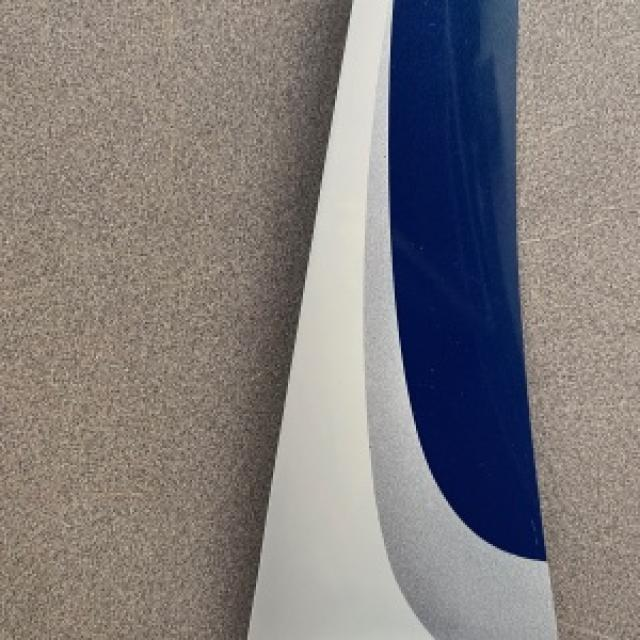healthy: (247, 0, 555, 638), (363, 0, 555, 638)
